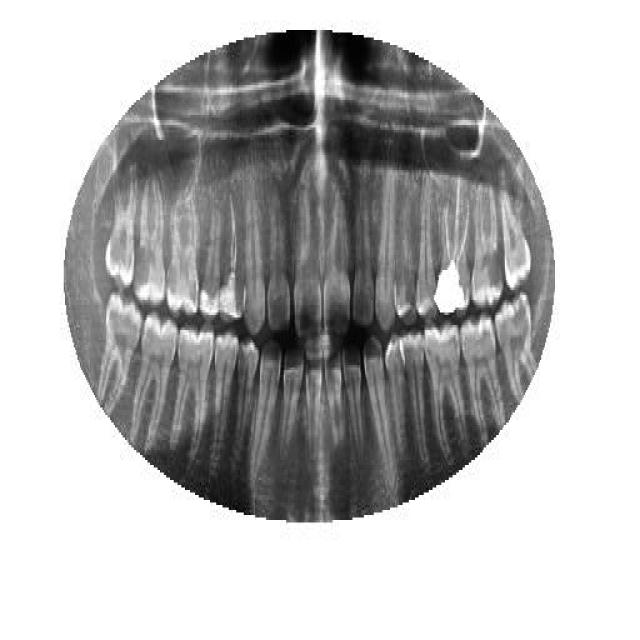Cavity: (132, 177, 168, 305), (470, 178, 504, 310)
Implant: (438, 172, 472, 320), (218, 190, 244, 322)
